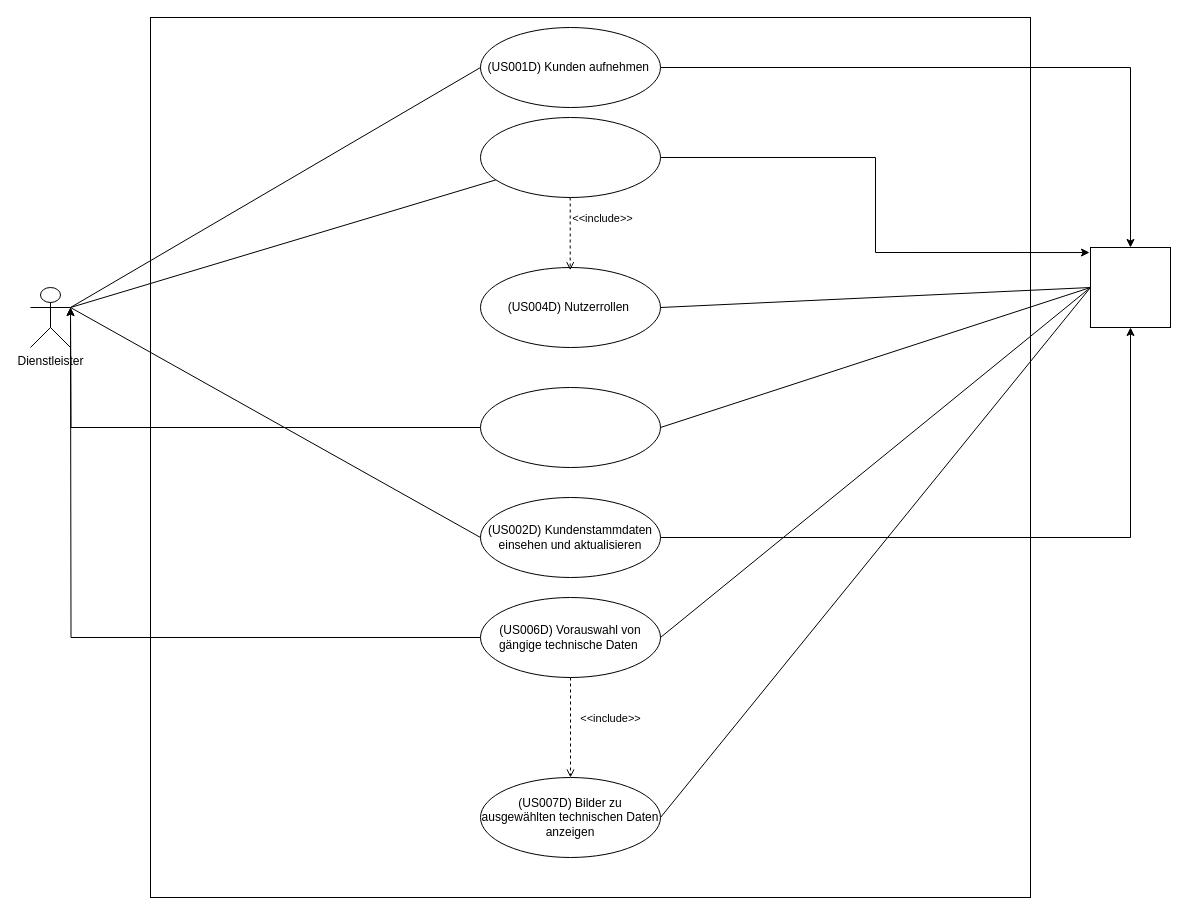
This 1188x915 diagram has some shape labels left out. Here are the shapes that lost their labels. From the top down, the centre of each, then its label:
(x=570, y=157): (US003D) Kundenstammdaten löschen
(x=1130, y=287): Desktop Applikation
(x=570, y=427): (US005D) Personalisierte Login-Daten
